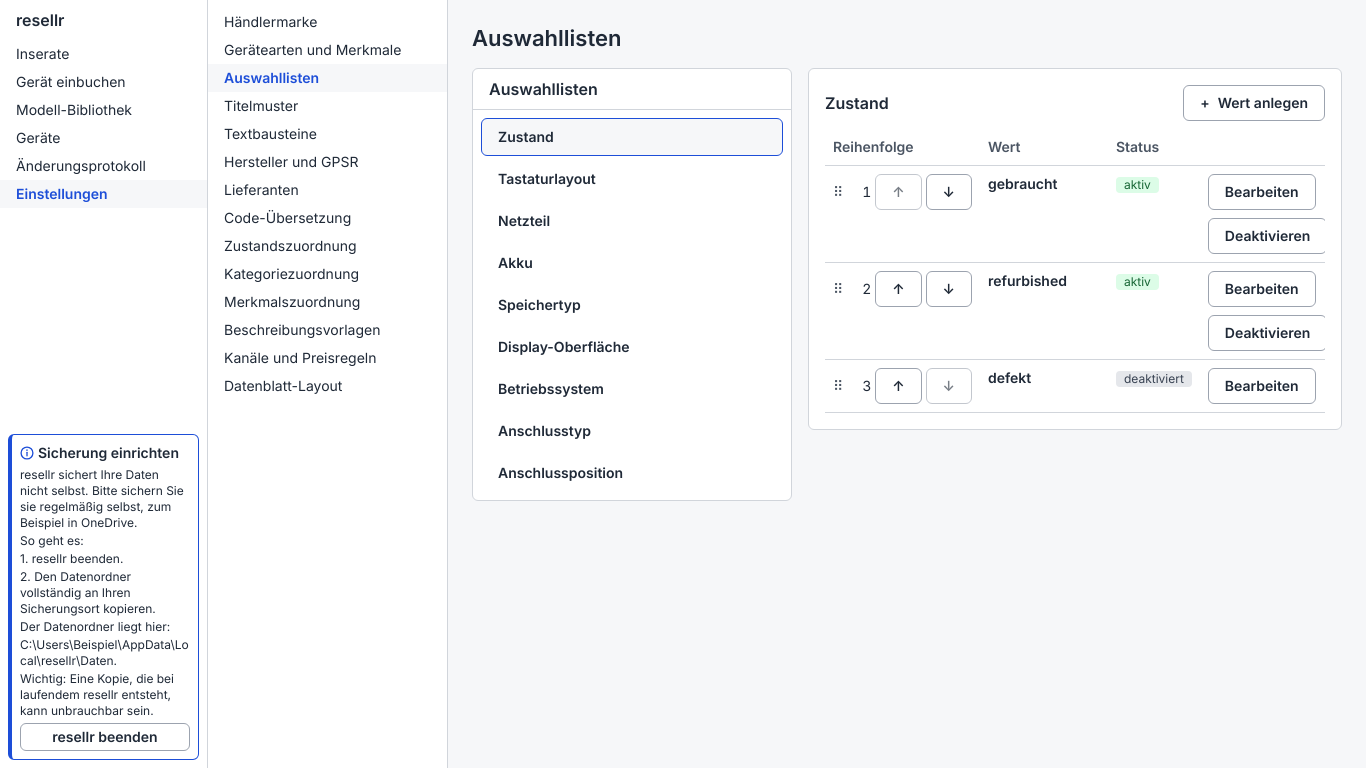
Scenario: UI-028 pick lists (CU-096) › UI-028.empty DER-35-02 shows "Noch keine Werte in dieser Liste" with the primary button "Wert anlegen"
Expected: the row "⠿ 1 ↑ ↓ gebraucht aktiv Bearbeiten Deaktivieren" is shown, [825, 165, 1325, 262]
Click the button "Tastaturlayout": (547, 178) [481, 160, 783, 198]
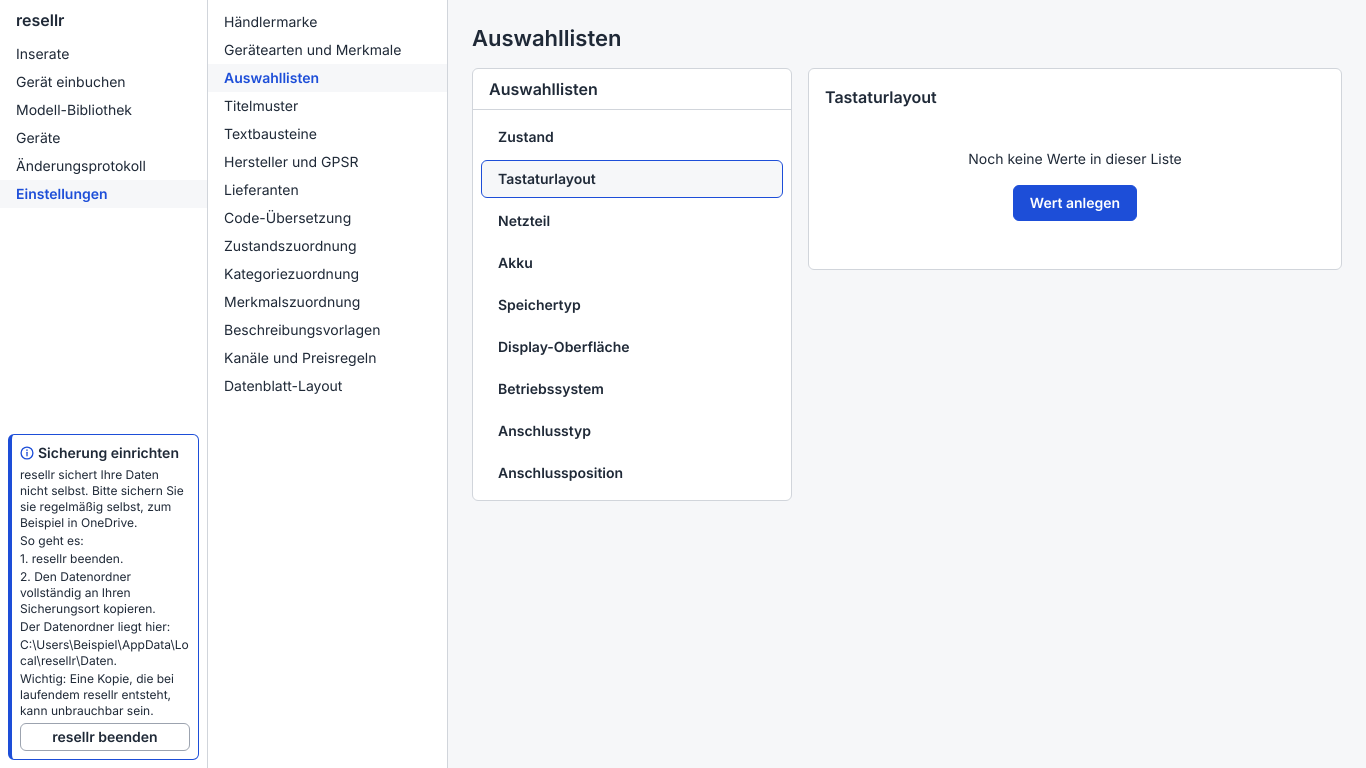
Result: the element "Tastaturlayout" is shown at [808, 68, 1342, 270]
Result: the text "Noch keine Werte in dieser Liste" is shown at [968, 149, 1182, 169]
Result: the number of buttons "Wert anlegen" is 1
Click the button "Wert anlegen": (1075, 203) [1013, 185, 1137, 221]
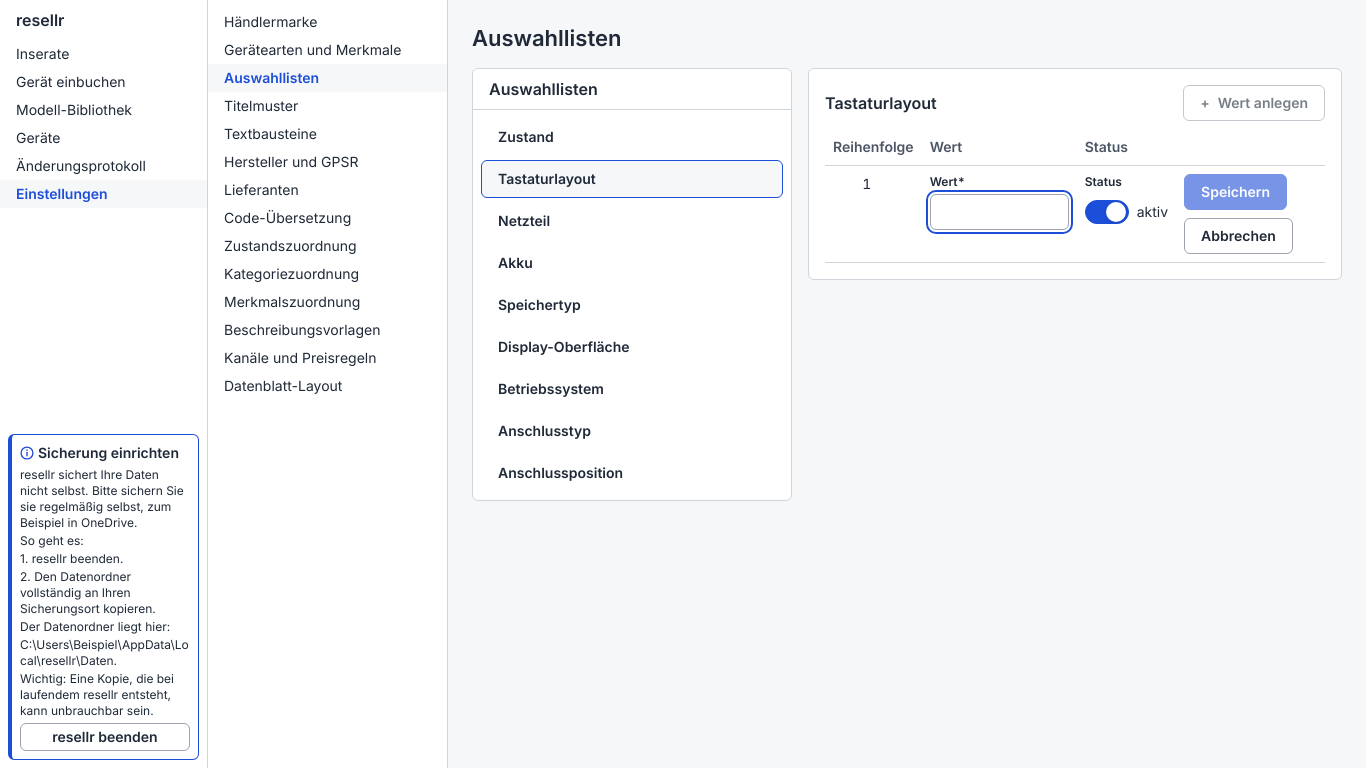
Result: the field labelled "Wert*" is empty at [930, 194, 1069, 230]
Result: the text "Noch keine Werte in dieser Liste" is gone
